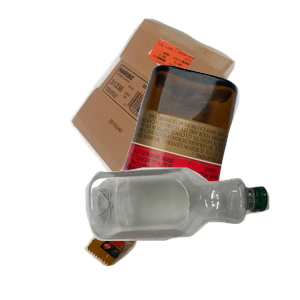cardboard: (67, 16, 295, 196)
glass: (113, 62, 300, 242)
plastic: (83, 165, 300, 300)
trash: (82, 151, 260, 300)
